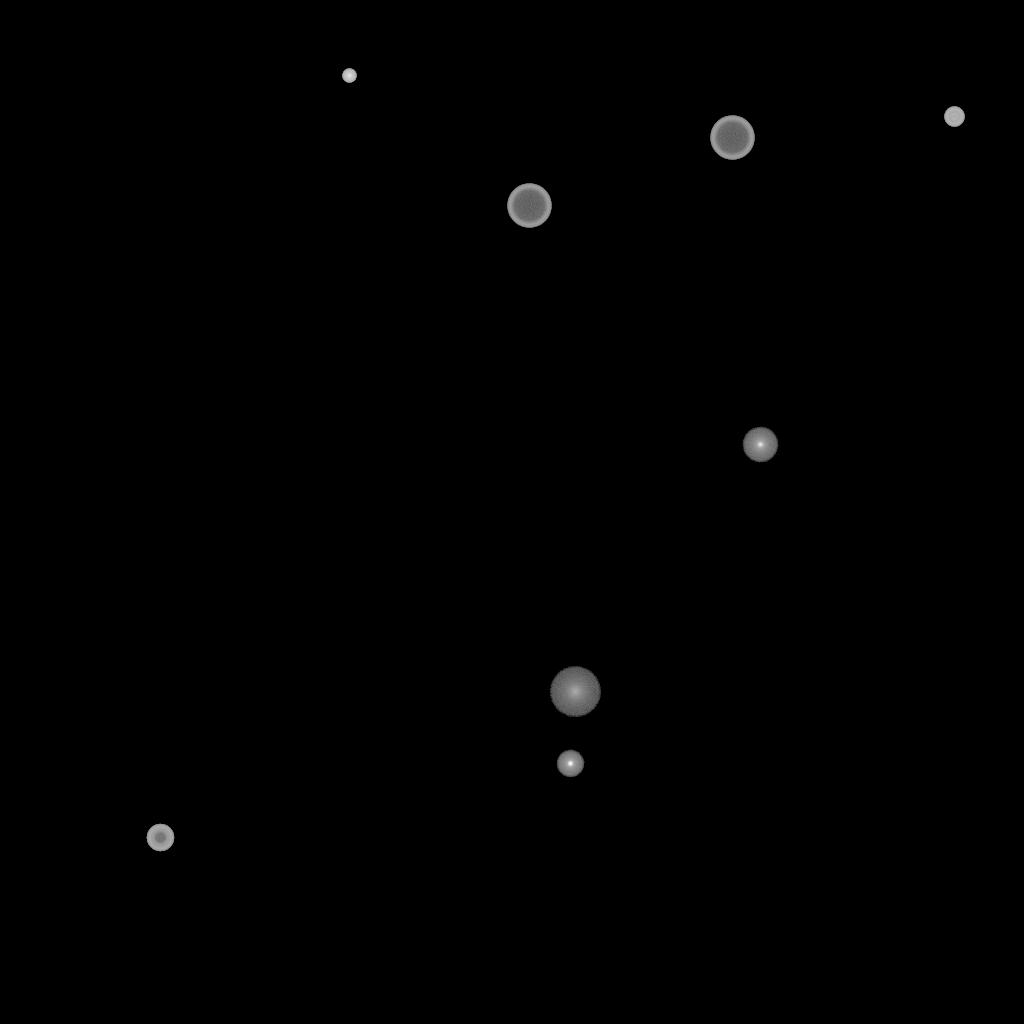depth:-10: (556, 750, 584, 778)
depth:-30: (342, 69, 356, 83)
depth:-40: (944, 107, 964, 127)
depth:-50: (146, 824, 174, 852)
depth:-70: (710, 116, 754, 160), (507, 184, 551, 228)
depth:0: (742, 427, 778, 463)
depth:20: (549, 667, 601, 717)
